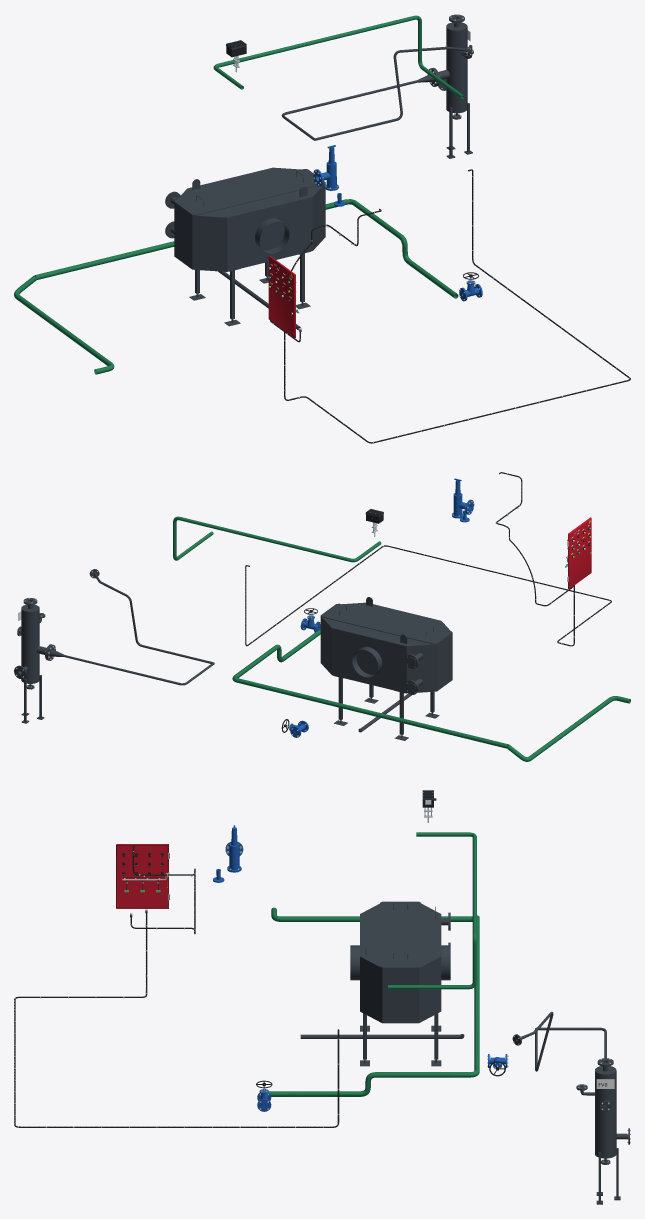
Rendered from s4000-6-CdRt_WTL.glb.
The picture shows the model from 3 angles, top to bottom: view 1: azimuth 30°, elevation 25°; view 2: azimuth 150°, elevation 25°; view 3: azimuth 270°, elevation 25°; orthographic projection. The views are drawn at different scales.
Visible parts, largest first — view 1: EQS2-1500 CAD 3, EQS2-1500 CAD 0, separator_fv8 / dark, EQS2-1500 CAD 1, suction_common / green, cabinet_door / cabinet_door_5.npz, to_direct / green, wiring_pump_2 / black, deaerator_feed / green, tds_without_fv / dark, tds_to_fv / dark, safety_2 / blue; view 2: EQS2-1500 CAD 3, EQS2-1500 CAD 0, separator_fv8 / dark, suction_common / green, EQS2-1500 CAD 2, cabinet_door / cabinet_door_5.npz, to_direct / green, wiring_pump_2 / black, deaerator_feed / green, tds_to_fv / dark, tds_without_fv / dark, safety_2 / blue; view 3: EQS2-1500 CAD 3, cabinet_door / cabinet_door_5.npz, separator_fv8 / dark, suction_common / green, wiring_pump_2 / black, EQS2-1500 CAD 0, to_direct / green, bottom_piping / dark, deaerator_feed / green.
Part boxes in pixels (x1,y1,x2,y2): EQS2-1500 CAD 3: (174, 167, 325, 269); EQS2-1500 CAD 0: (189, 197, 312, 326); separator_fv8 / dark: (432, 14, 473, 158); EQS2-1500 CAD 1: (192, 215, 227, 271); suction_common / green: (34, 199, 458, 298); cabinet_door / cabinet_door_5.npz: (268, 256, 296, 337); to_direct / green: (213, 15, 464, 98); wiring_pump_2 / black: (284, 169, 630, 443); deaerator_feed / green: (14, 276, 114, 374); tds_without_fv / dark: (314, 45, 472, 140); tds_to_fv / dark: (281, 68, 438, 140); safety_2 / blue: (313, 145, 338, 190); EQS2-1500 CAD 3: (320, 597, 452, 691); EQS2-1500 CAD 0: (332, 628, 439, 740); separator_fv8 / dark: (14, 598, 51, 723); suction_common / green: (232, 629, 508, 748); EQS2-1500 CAD 2: (404, 644, 436, 694); cabinet_door / cabinet_door_5.npz: (567, 517, 591, 588); to_direct / green: (173, 516, 371, 562); wiring_pump_2 / black: (245, 545, 611, 646); deaerator_feed / green: (507, 696, 630, 761); tds_to_fv / dark: (46, 644, 214, 685); tds_without_fv / dark: (89, 569, 213, 663); safety_2 / blue: (452, 478, 474, 518); EQS2-1500 CAD 3: (360, 901, 441, 1023); cabinet_door / cabinet_door_5.npz: (116, 844, 169, 908); separator_fv8 / dark: (576, 1058, 629, 1204); suction_common / green: (268, 915, 479, 1096); wiring_pump_2 / black: (14, 913, 339, 1127); EQS2-1500 CAD 0: (350, 945, 450, 1066); to_direct / green: (388, 832, 476, 989); bottom_piping / dark: (300, 1034, 464, 1038); deaerator_feed / green: (271, 907, 479, 921).
Size of the model in its own units: 6.38 by 2.82 by 6.24.
